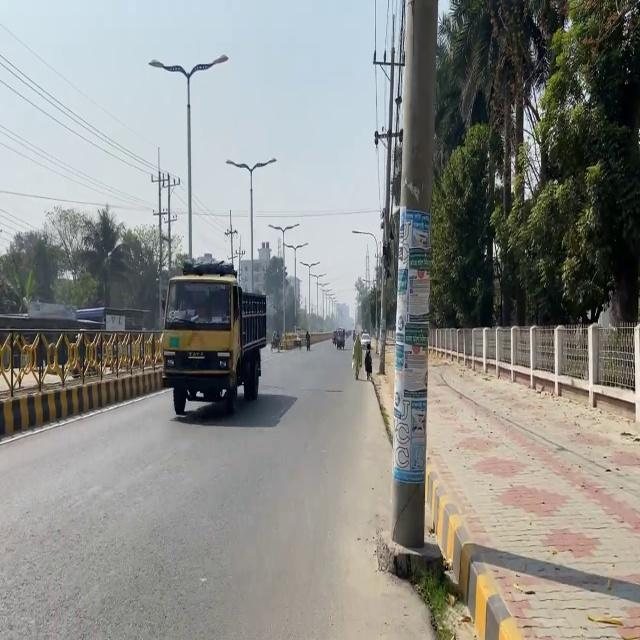Construction-barrier: (369, 338, 446, 582), (425, 468, 523, 639), (425, 469, 475, 604), (466, 560, 523, 639), (370, 338, 394, 447)
Garbage-bin: (364, 344, 372, 380), (305, 330, 311, 351)
Light-pole: (390, 0, 438, 548)
Pole: (0, 320, 168, 422)
Pothole: (373, 338, 639, 639)
Traffic-cone: (159, 256, 267, 415)
